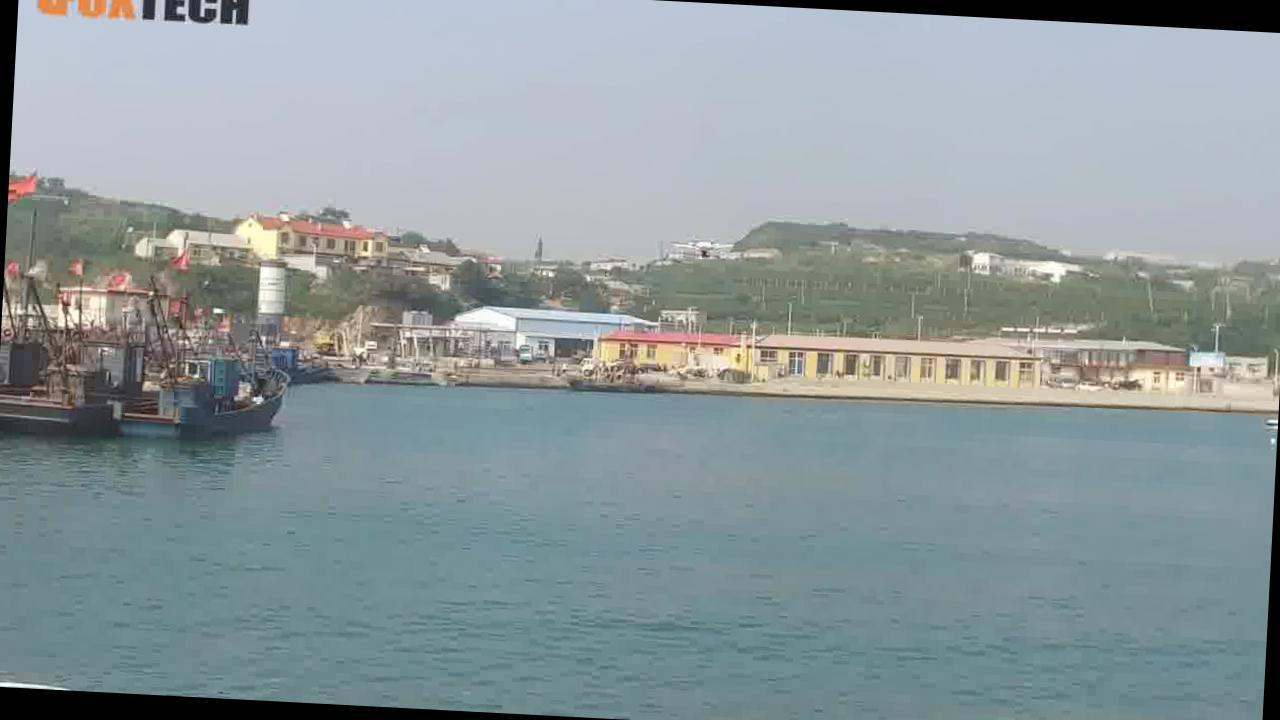drone: (670, 232, 731, 260)
